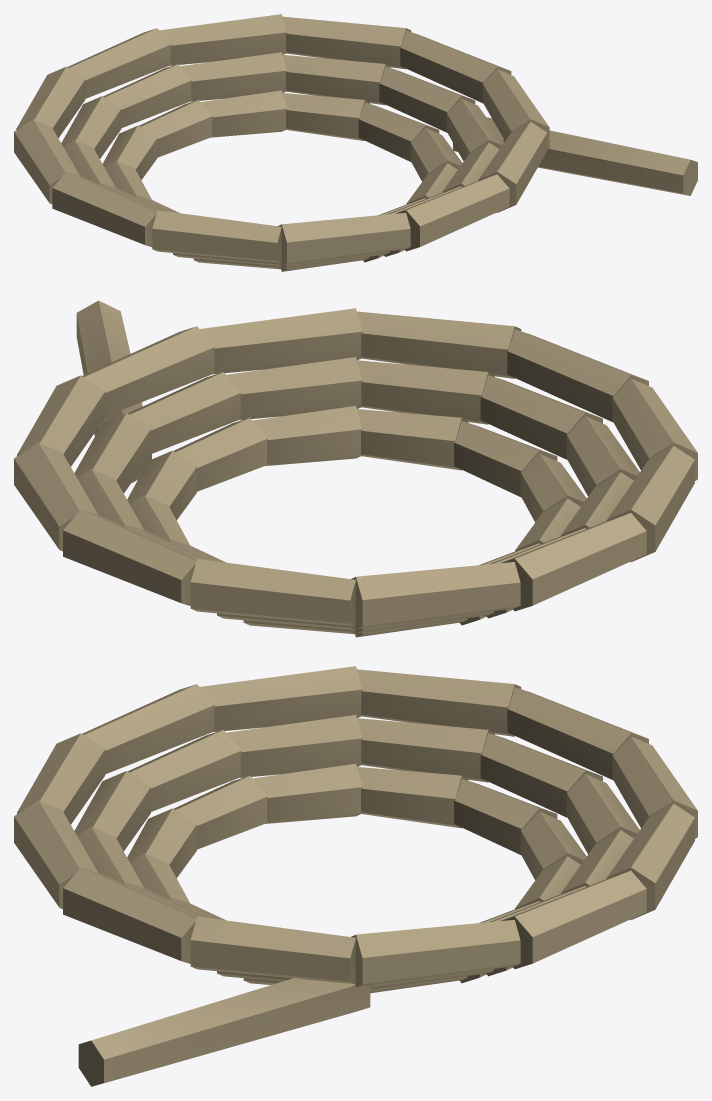
Rendered from lashing_cord.glb.
The picture shows the model from 3 angles, top to bottom: view 1: azimuth 30°, elevation 25°; view 2: azimuth 150°, elevation 25°; view 3: azimuth 270°, elevation 25°; orthographic projection. The views are drawn at different scales.
Visible parts, largest first — view 1: lashing_cord; view 2: lashing_cord; view 3: lashing_cord.
Part boxes in pixels (x1,y1,x2,y2): lashing_cord: [14, 14, 697, 271]; lashing_cord: [14, 300, 697, 637]; lashing_cord: [14, 666, 697, 1086].
Size of the model in its own units: 0.6121 by 0.088 by 0.5168.
